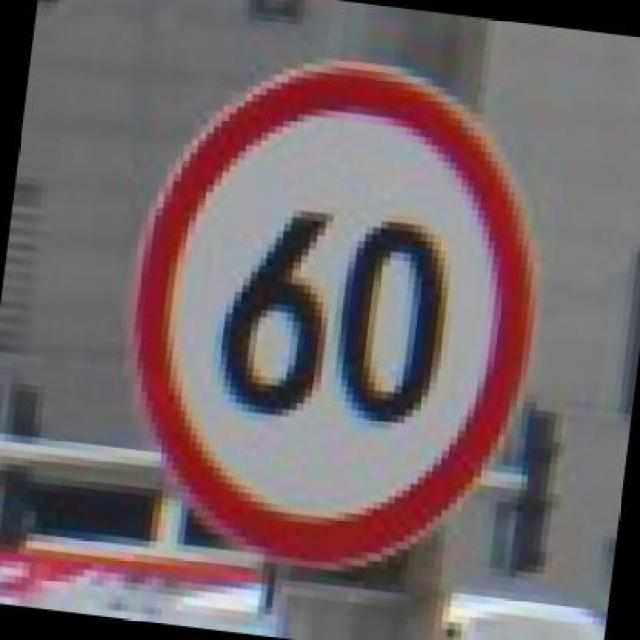Limite-60: (123, 55, 545, 571)
